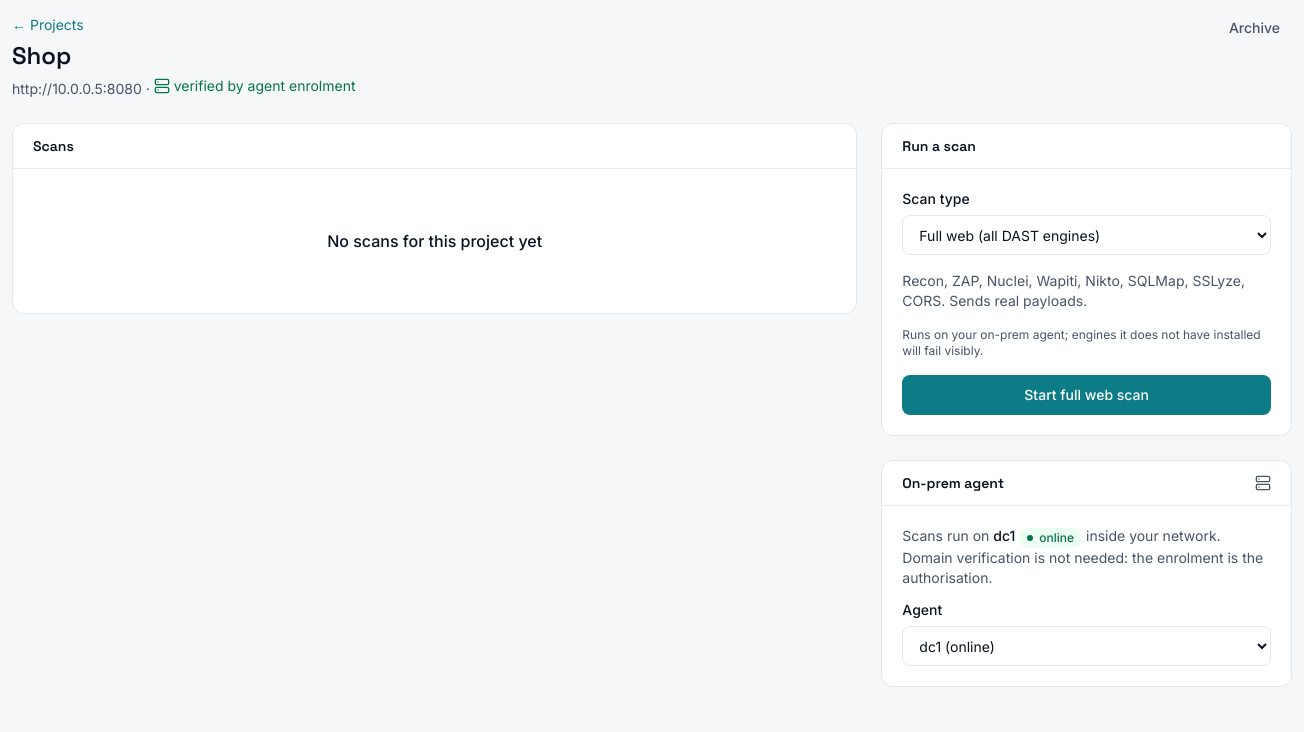
Test: <ProjectDetail /> bound to an on-prem agent (M14) › needs no verification: header note, no TXT panel, full web allowed, cloud-only types blocked
Expected: the text "verified by agent enrolment" is shown, [154,76,356,96]
Expected: the button "Start full web scan" is enabled, [902,375,1271,415]
Select "Container image" in the dropdown labelled "Scan type" at (1087, 235), box [902,215,1271,255]
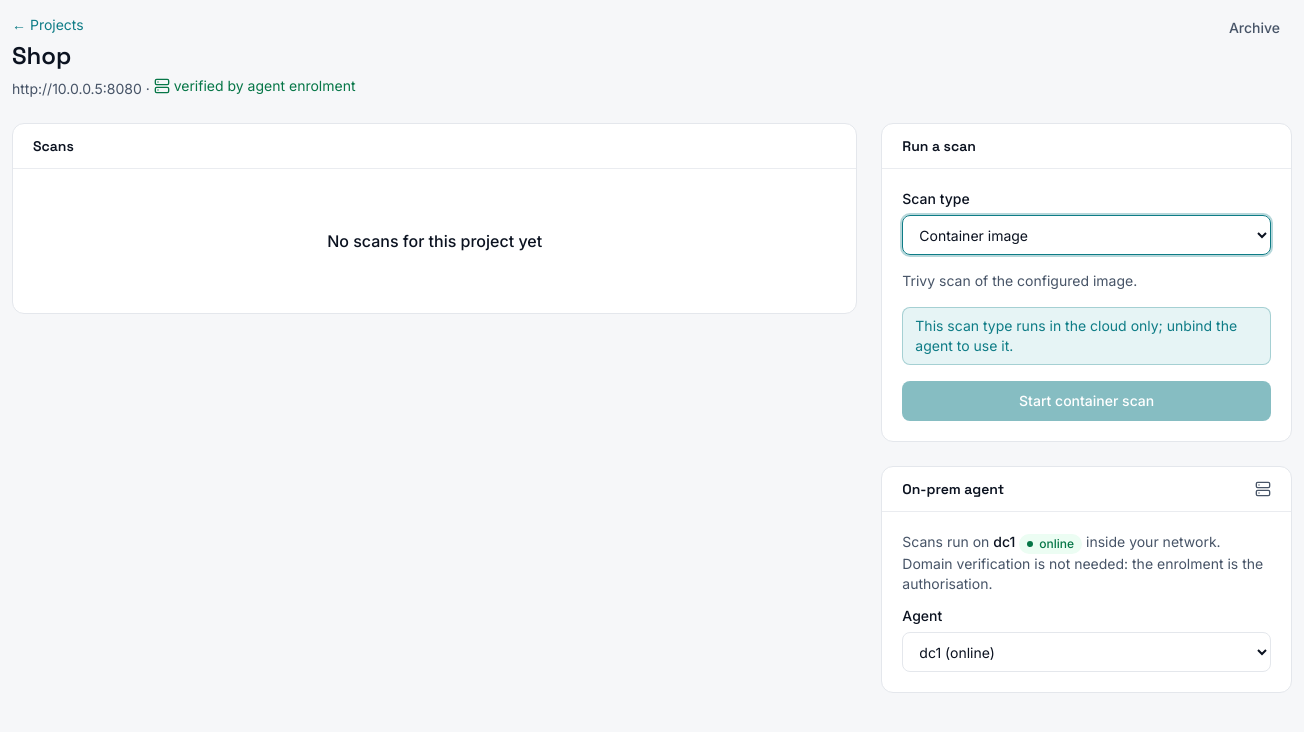
Expected: the text "dc1" is shown, [993,533,1015,550]
Expected: the text "This scan type runs in the cloud only; unbind the agent to use it." is shown, [902,307,1271,365]
Expected: the button "Start container scan" is disabled, [902,381,1271,421]
